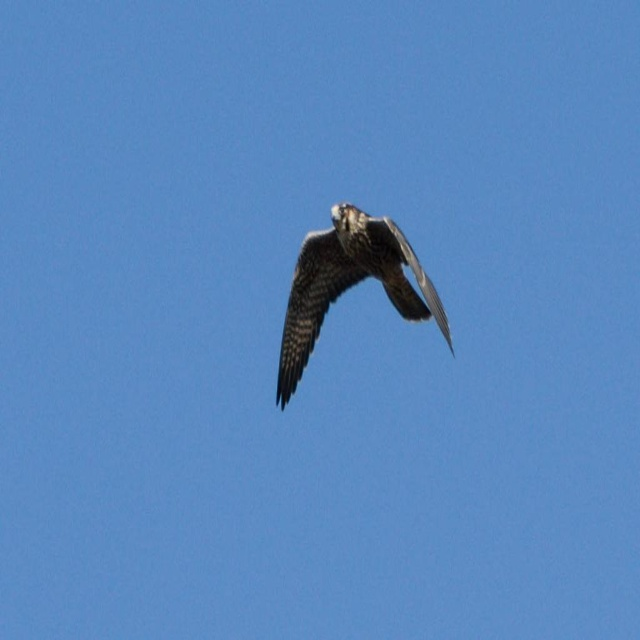Eagle: (271, 200, 456, 411)
